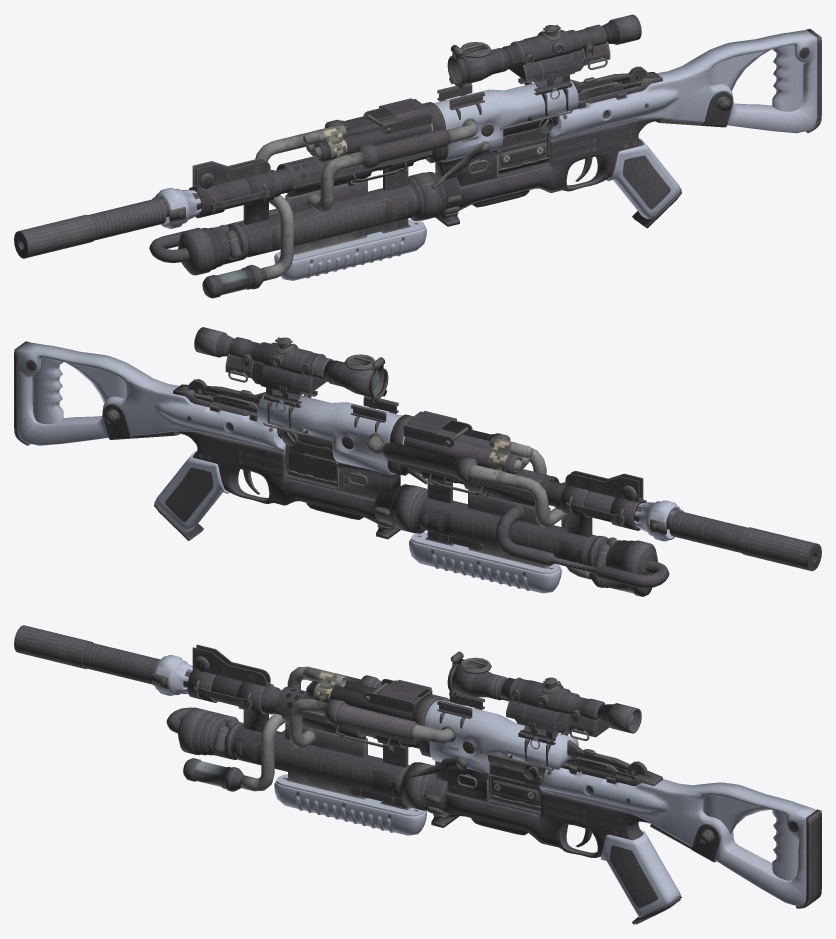
3 renders of one model, top to bottom at view 1: azimuth 30°, elevation 25°; view 2: azimuth 150°, elevation 25°; view 3: azimuth 330°, elevation 25°, orthographic.
Parts seen in each view (by area): view 1: bigGrip_low, cylinder_low, bodyMain_low, pew_low, silencer_low, grips2_low, piperino3_low, piperino2_low, grip_low, frontCyl_low, topCylind_low, cylinderFront3_low (+25 smaller); view 2: bigGrip_low, cylinder_low, bodyMain_low, pew_low, piperino3_low, silencer_low, grips2_low, grip_low, piperino_low, topCylind_low, prsti_low, frontCyl_low (+22 smaller); view 3: bigGrip_low, cylinder_low, bodyMain_low, pew_low, silencer_low, grips2_low, grip_low, piperino2_low, piperino3_low, topCylind_low, frontCyl_low, cylinderFront3_low (+22 smaller).
Boxes of the visible parts, x1,y1,x2,y2 form: bigGrip_low: [550, 30, 817, 139]; cylinder_low: [238, 172, 461, 257]; bodyMain_low: [431, 80, 578, 186]; pew_low: [459, 118, 659, 210]; silencer_low: [14, 194, 201, 258]; grips2_low: [274, 219, 426, 280]; piperino3_low: [202, 115, 394, 298]; piperino2_low: [306, 118, 478, 212]; grip_low: [606, 138, 680, 219]; frontCyl_low: [178, 223, 248, 275]; topCylind_low: [502, 24, 606, 66]; cylinderFront3_low: [281, 157, 372, 213]; bigGrip_low: [18, 342, 285, 452]; cylinder_low: [374, 484, 597, 565]; bodyMain_low: [257, 393, 404, 499]; pew_low: [176, 431, 376, 523]; piperino3_low: [366, 433, 651, 596]; silencer_low: [634, 507, 821, 571]; grips2_low: [409, 532, 561, 593]; grip_low: [155, 450, 229, 531]; piperino_low: [495, 504, 669, 588]; topCylind_low: [229, 337, 333, 378]; prsti_low: [32, 357, 63, 424]; frontCyl_low: [587, 535, 657, 587]; bigGrip_low: [539, 764, 816, 905]; cylinder_low: [230, 724, 448, 812]; bodyMain_low: [424, 700, 578, 802]; pew_low: [446, 790, 650, 857]; silencer_low: [14, 625, 190, 686]; grips2_low: [274, 774, 426, 835]; grip_low: [601, 830, 680, 917]; piperino2_low: [289, 698, 456, 748]; piperino3_low: [183, 666, 464, 791]; topCylind_low: [500, 677, 605, 719]; frontCyl_low: [178, 707, 243, 759]; cylinderFront3_low: [280, 689, 367, 757].
Size of the model in its own units: 970 by 258 by 94.12.
Materials: 1 (1 with a texture image).
